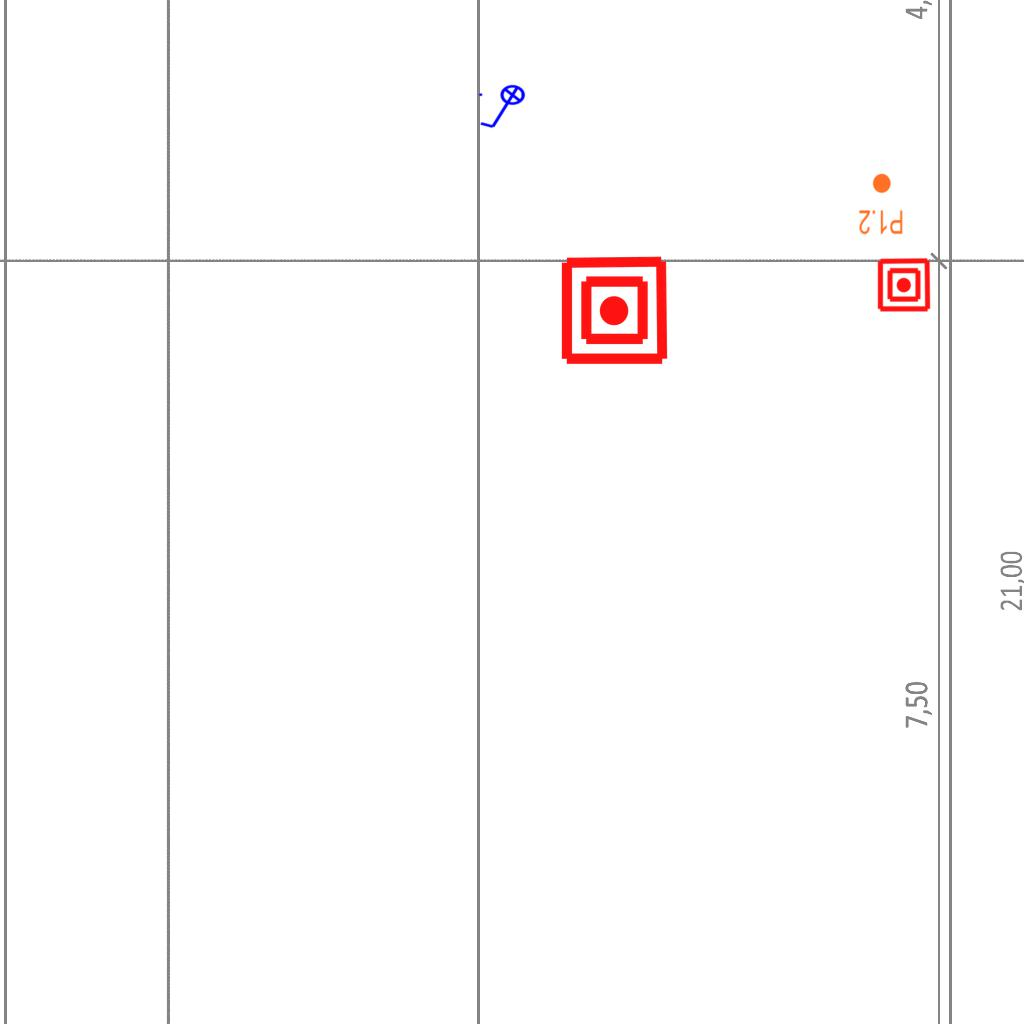Ausschalter_beleuchtet: (476, 84, 532, 132)
Downlight_LED_Einbauleuchten_Flur: (858, 172, 904, 236)
NAM-Nichtautomatischer_Melder: (558, 254, 671, 367), (876, 257, 932, 313)
